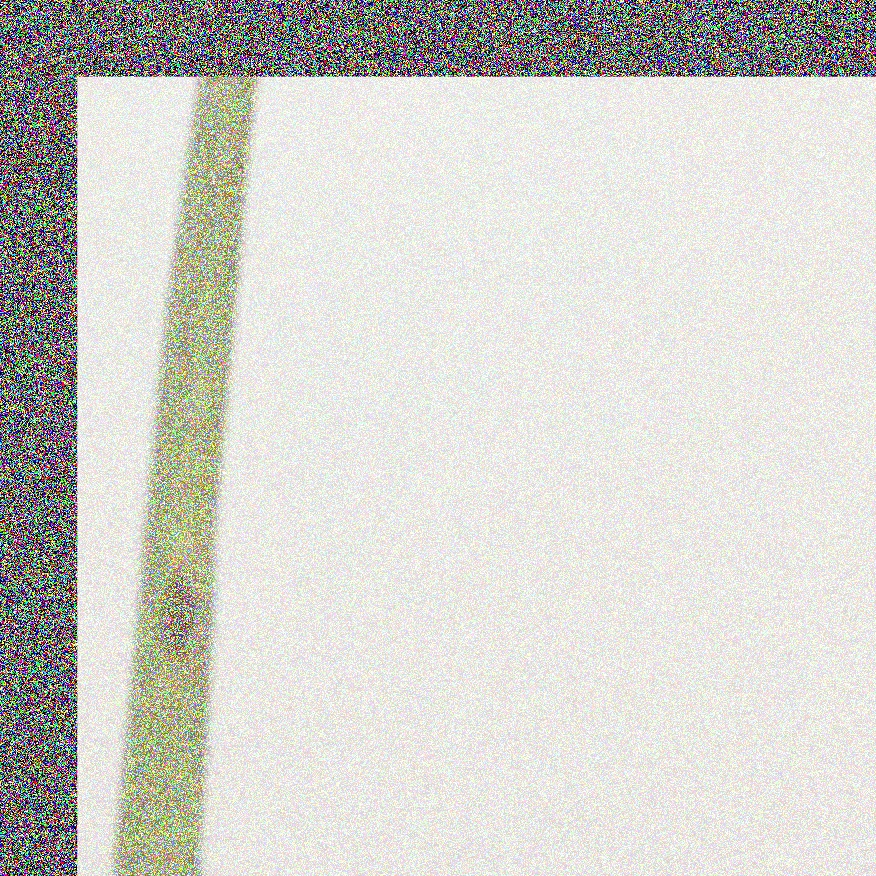Brown_Spot: (138, 536, 210, 670)
